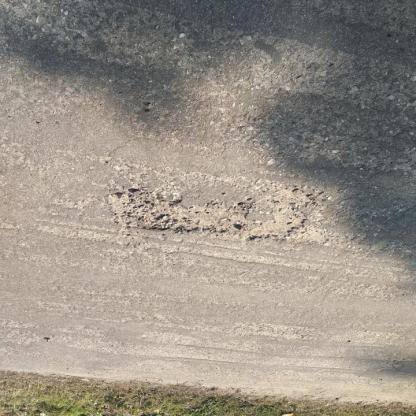pothole: (105, 188, 311, 245)
